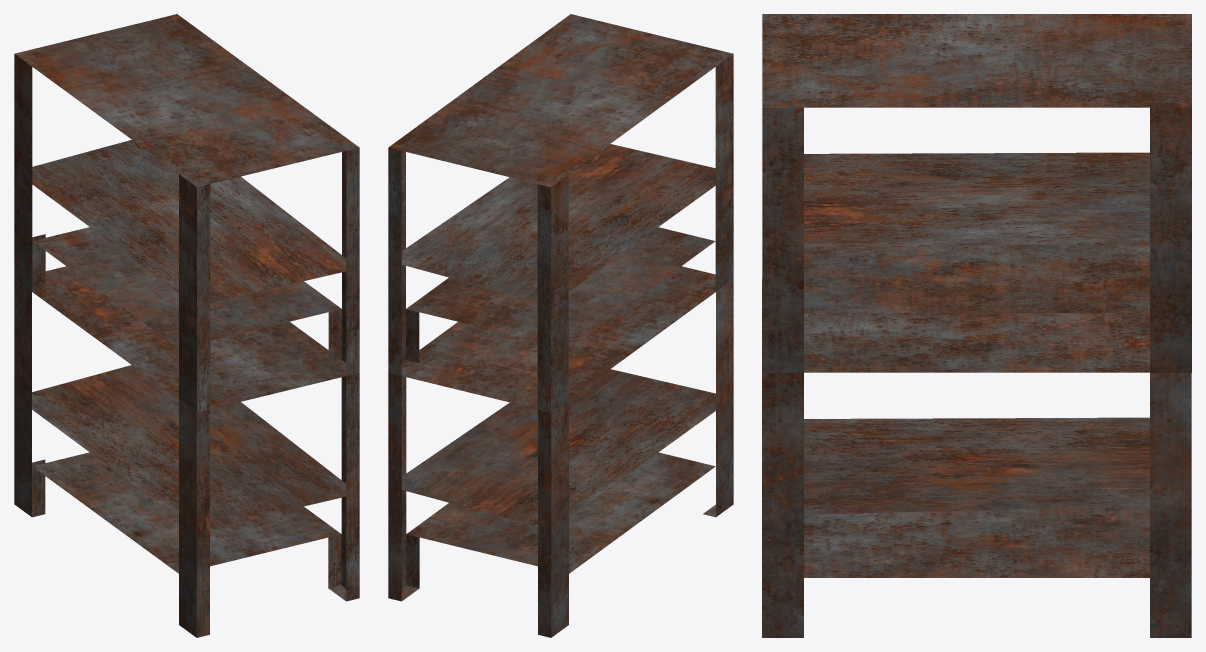
The model's file is armario do armazemtexturizado.fbx.
The picture shows the model from 3 angles, left to right: view 1: azimuth 30°, elevation 25°; view 2: azimuth 150°, elevation 25°; view 3: azimuth 270°, elevation 25°; orthographic projection. The views are drawn at different scales.
Parts seen in each view (by area): view 1: Cube.001; view 2: Cube.001; view 3: Cube.001.
Part boxes in pixels (x1,y1,x2,y2): Cube.001: [14, 14, 359, 637]; Cube.001: [388, 14, 733, 637]; Cube.001: [762, 14, 1191, 637].
Bounding box in the file's own units: 201 × 530 × 389.
1 material, 1 textured.
